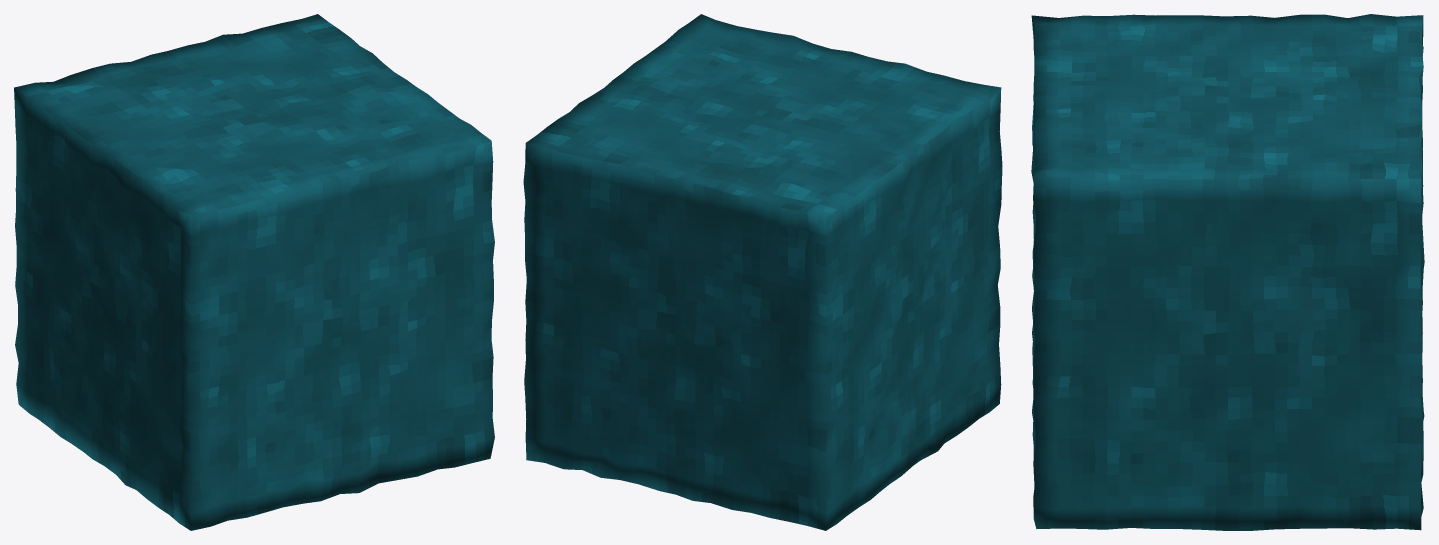
The model's file is highcube.gltf.
The picture shows the model from 3 angles, left to right: view 1: azimuth 30°, elevation 25°; view 2: azimuth 150°, elevation 25°; view 3: azimuth 270°, elevation 25°; orthographic projection. The views are drawn at different scales.
Parts seen in each view (by area): view 1: Cube; view 2: Cube; view 3: Cube.
Part boxes in pixels (x1=…): Cube: x1=14, y1=14, x2=494, y2=530; Cube: x1=523, y1=14, x2=1002, y2=530; Cube: x1=1031, y1=14, x2=1424, y2=530.
Size of the model in its own units: 1.02 by 1.02 by 1.02.
Materials: 1 (1 with a texture image).
